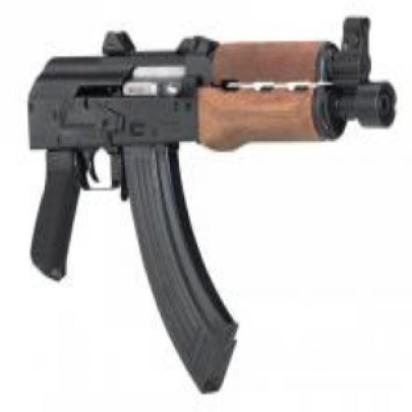Gun: (21, 12, 399, 393)
